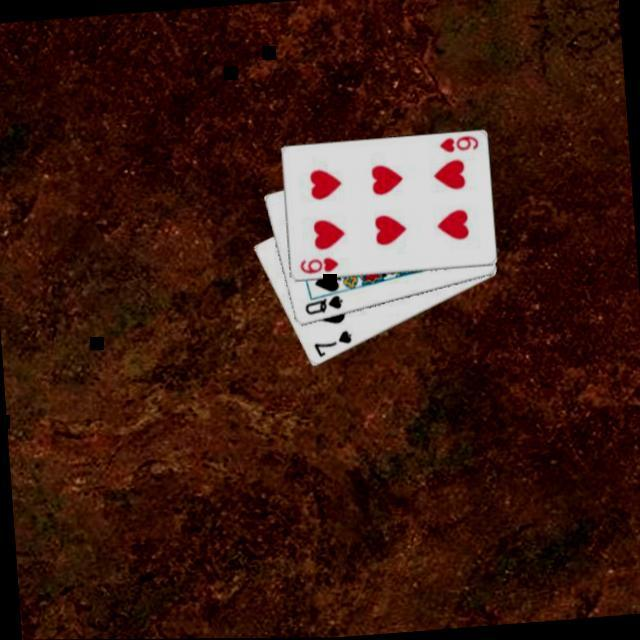6H: (297, 252, 342, 276), (437, 131, 482, 154)
7S: (310, 325, 356, 358)
QS: (302, 290, 347, 316)
